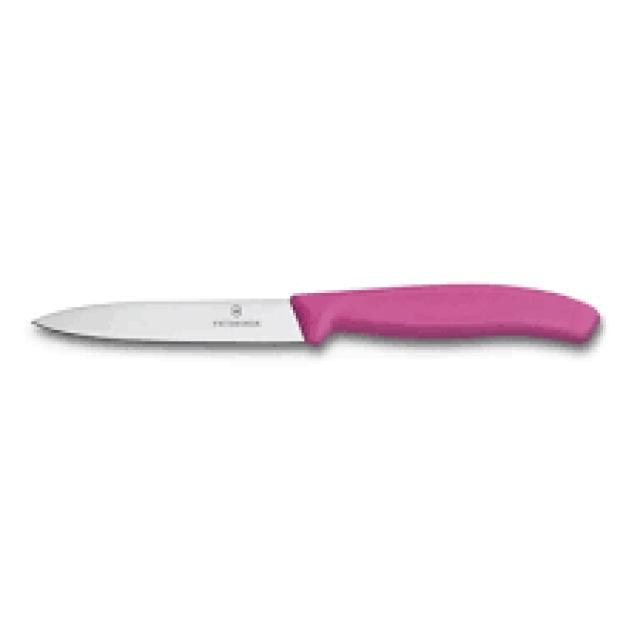Knife: (34, 284, 600, 350)
